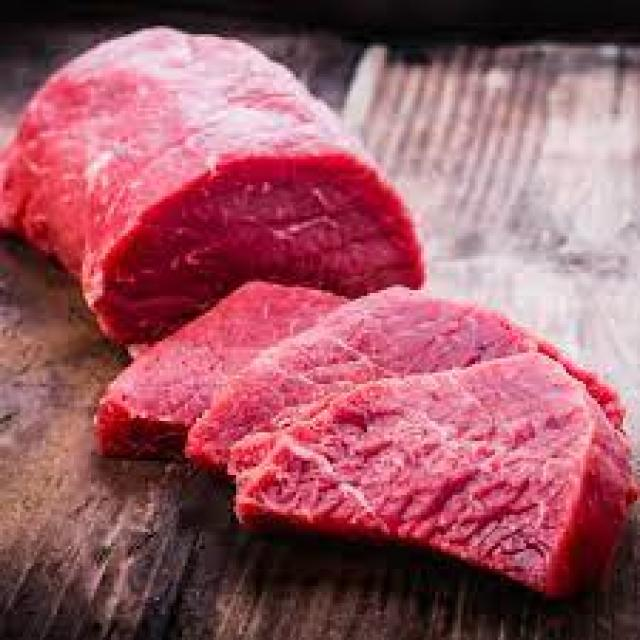beef: (235, 350, 640, 596)
